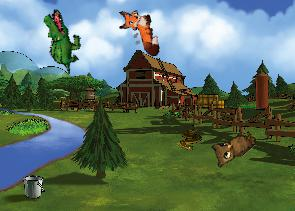crocodile: (28, 6, 94, 75)
fox: (115, 3, 162, 62)
owl: (205, 120, 258, 171)
